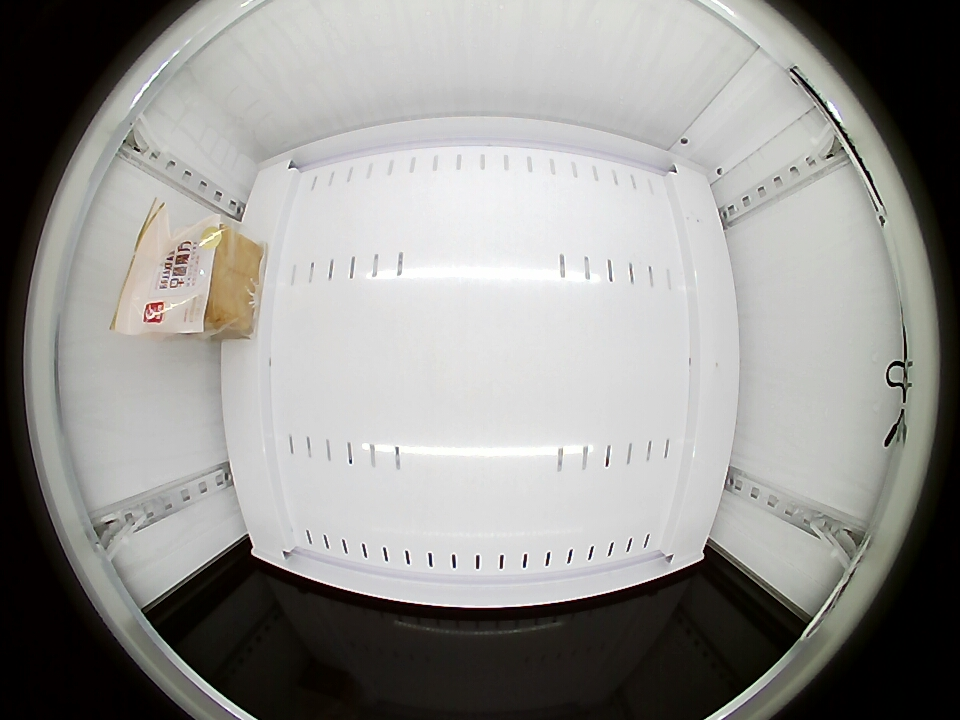zaocanmofang: (113, 212, 239, 338)
